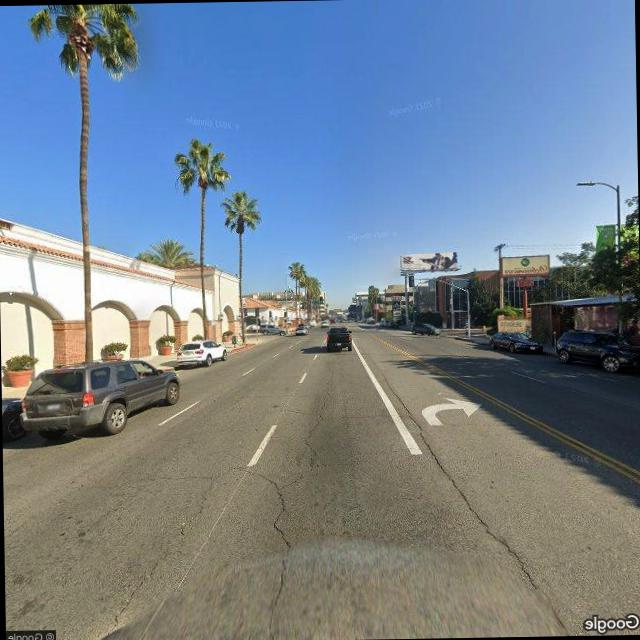pothole: (382, 366, 557, 622), (256, 372, 340, 638), (94, 473, 220, 640)
